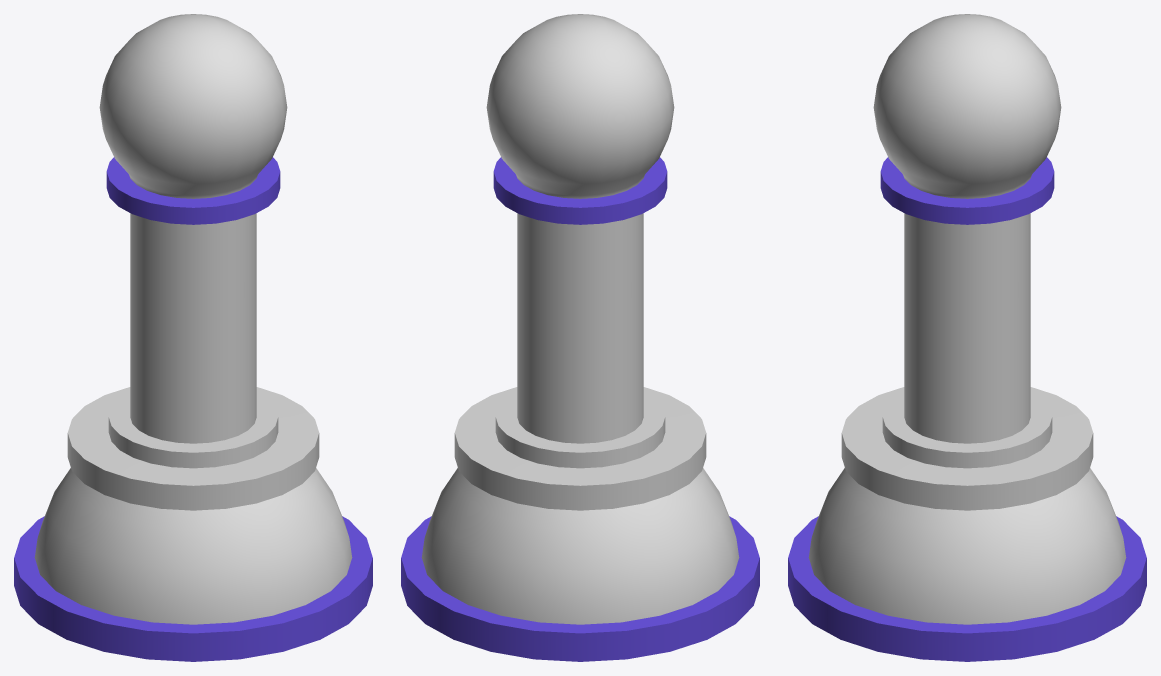
Rendered from pawn.fbx.
3 renders of one model, left to right at view 1: azimuth 30°, elevation 25°; view 2: azimuth 150°, elevation 25°; view 3: azimuth 270°, elevation 25°, orthographic.
Visible parts, largest first — view 1: pawn; view 2: pawn; view 3: pawn.
Boxes of the visible parts, bbox=[...] form: pawn: bbox=[14, 14, 372, 661]; pawn: bbox=[401, 14, 759, 661]; pawn: bbox=[788, 14, 1146, 661].
Size of the model in its own units: 181 by 314 by 181.
